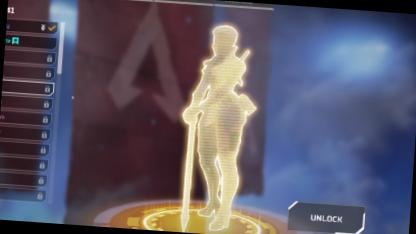Target: (174, 17, 262, 184)
